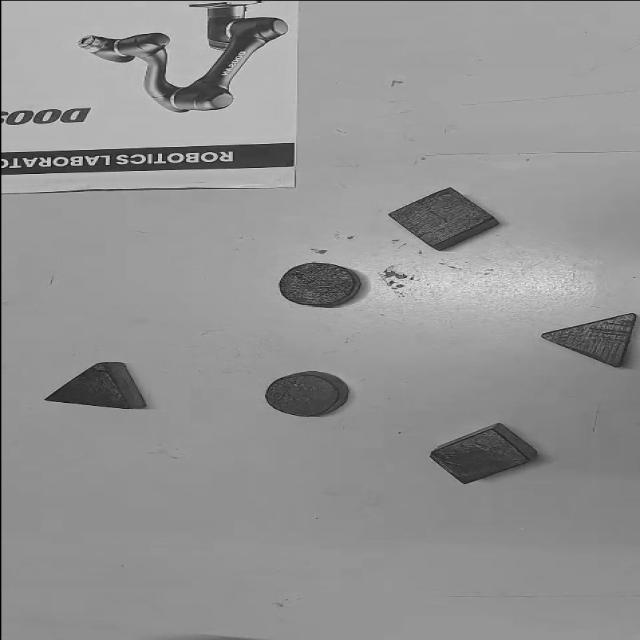bcircle: (276, 261, 361, 309)
bcube: (385, 186, 500, 252)
btriangle: (44, 362, 148, 410)
rcircle: (263, 370, 349, 417)
rcube: (426, 423, 537, 485)
rtriangle: (539, 312, 637, 368)
